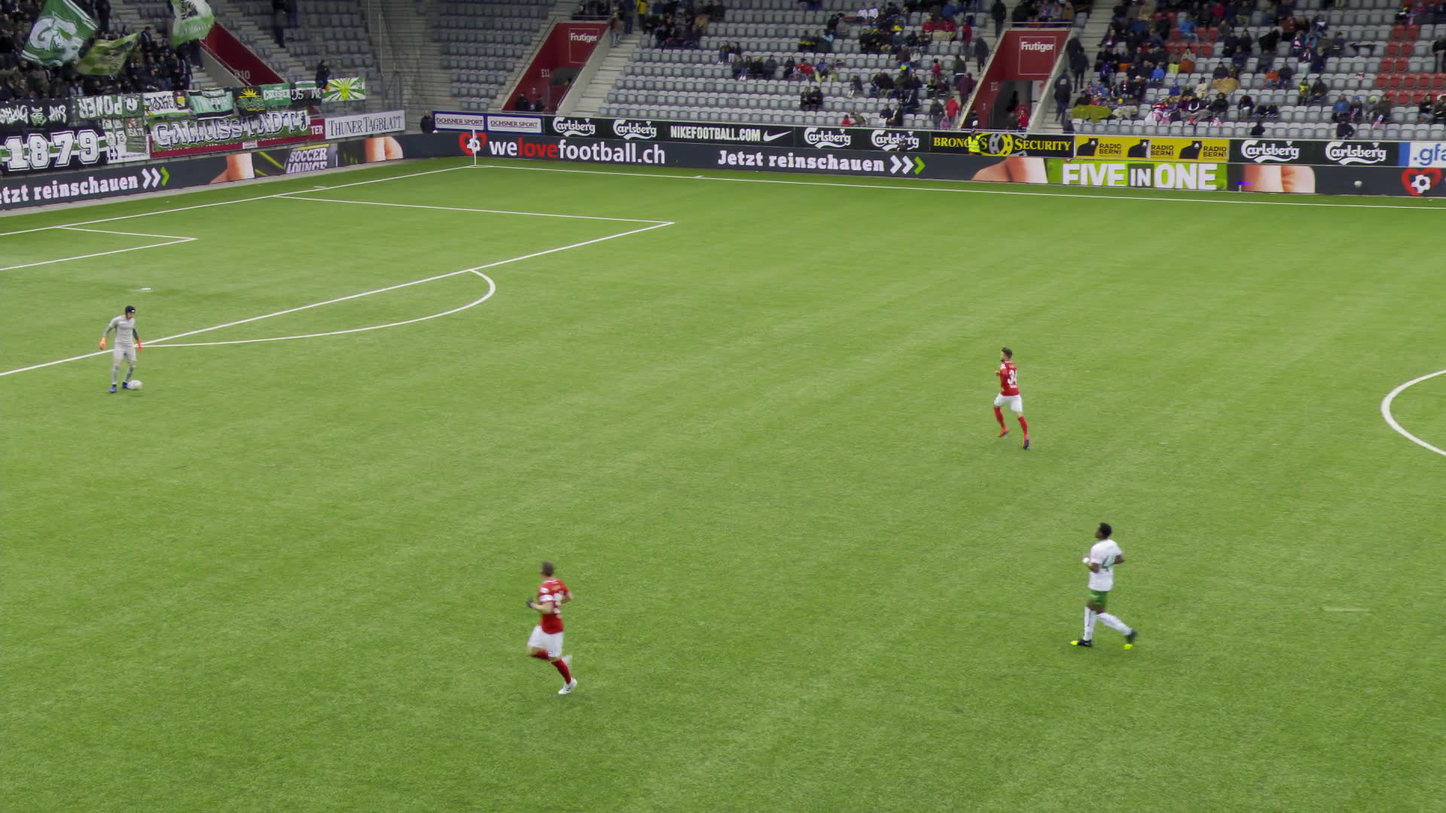ball: (137, 378, 154, 395)
player: (523, 562, 578, 692), (1081, 522, 1135, 654), (990, 346, 1033, 445), (97, 301, 138, 393)
